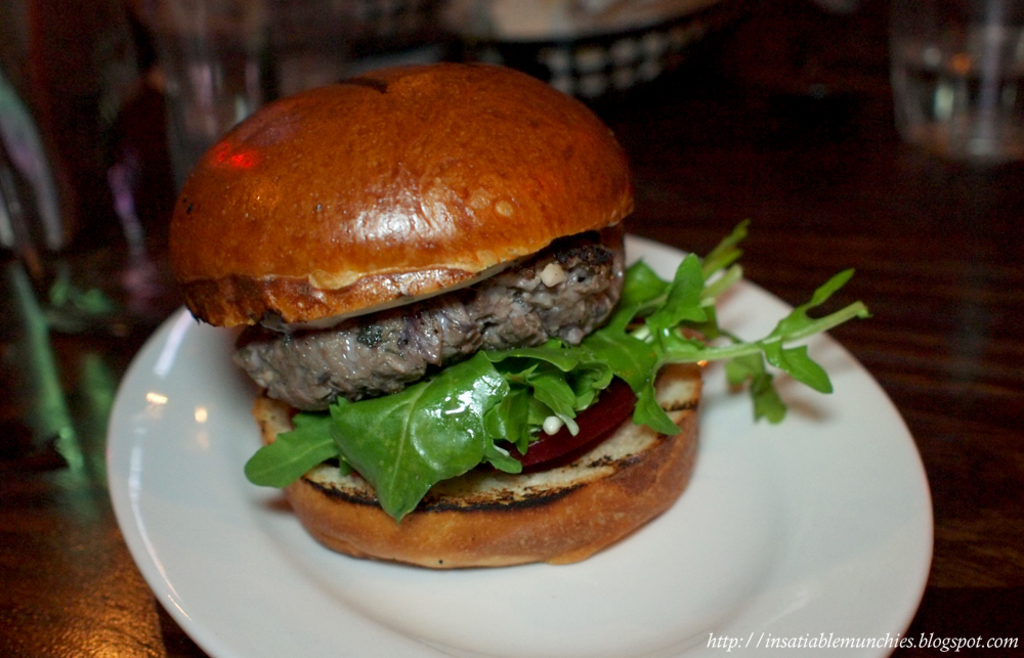Hamburger: (172, 62, 868, 568)
